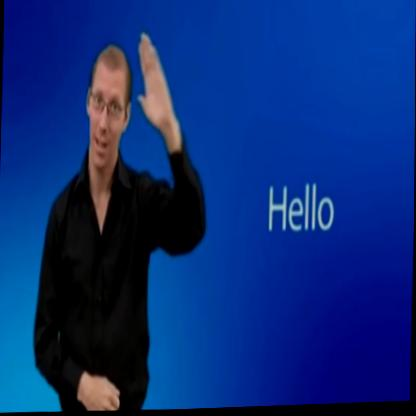Hello: (31, 20, 213, 415)
